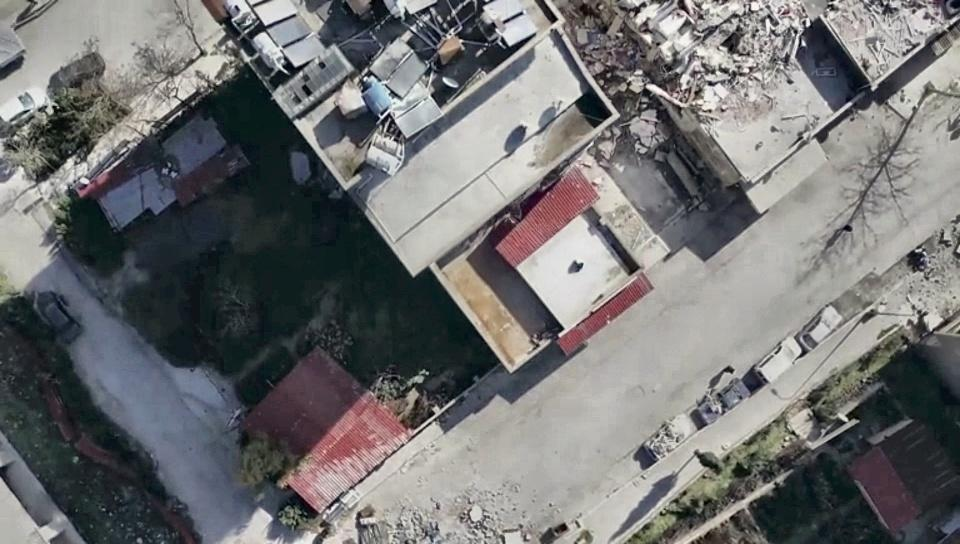kapali: (290, 380, 588, 543)
